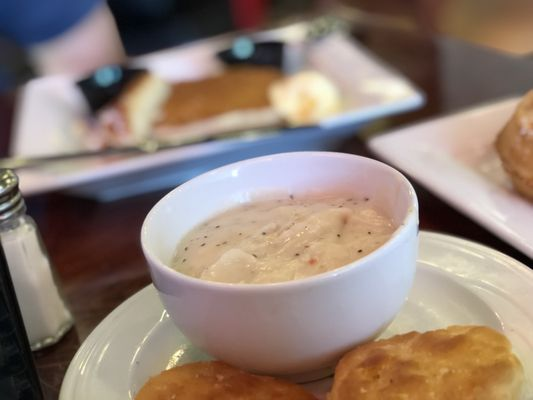sushi: (138, 151, 421, 379)
